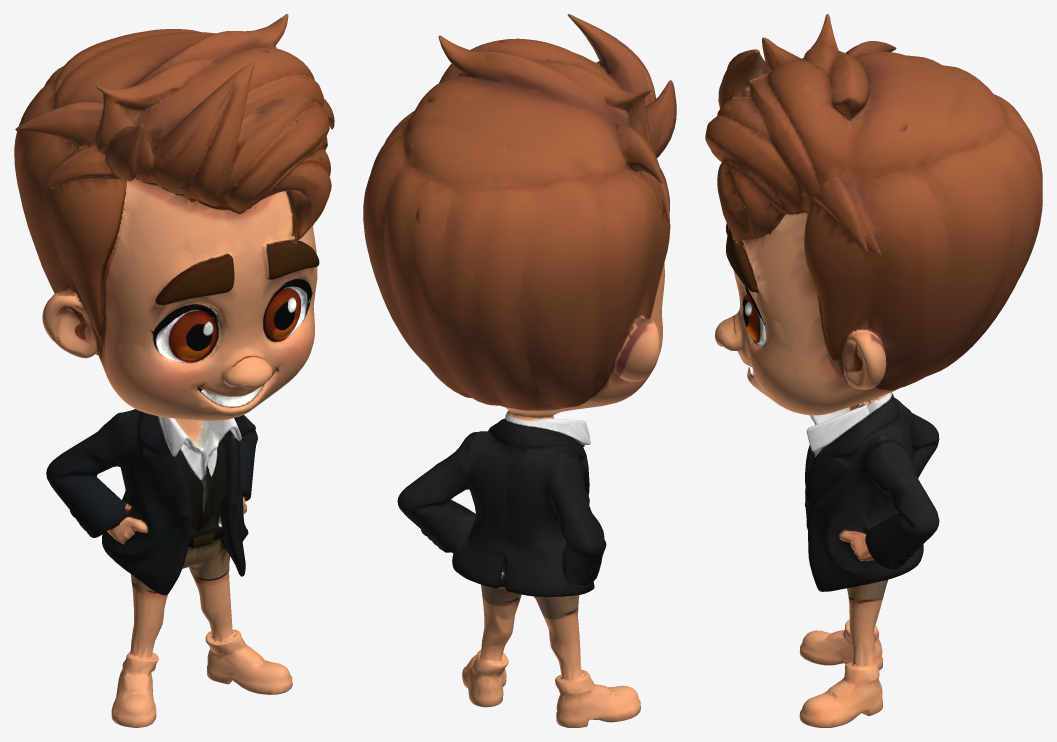
Rendered from ugg-founder.glb.
3 renders of one model, left to right at view 1: azimuth 30°, elevation 25°; view 2: azimuth 150°, elevation 25°; view 3: azimuth 270°, elevation 25°, orthographic. The views are drawn at different scales.
Bounding box in the file's own units: 0.9107 × 1.9 × 0.9003.
Materials: 1 (1 with a texture image).
